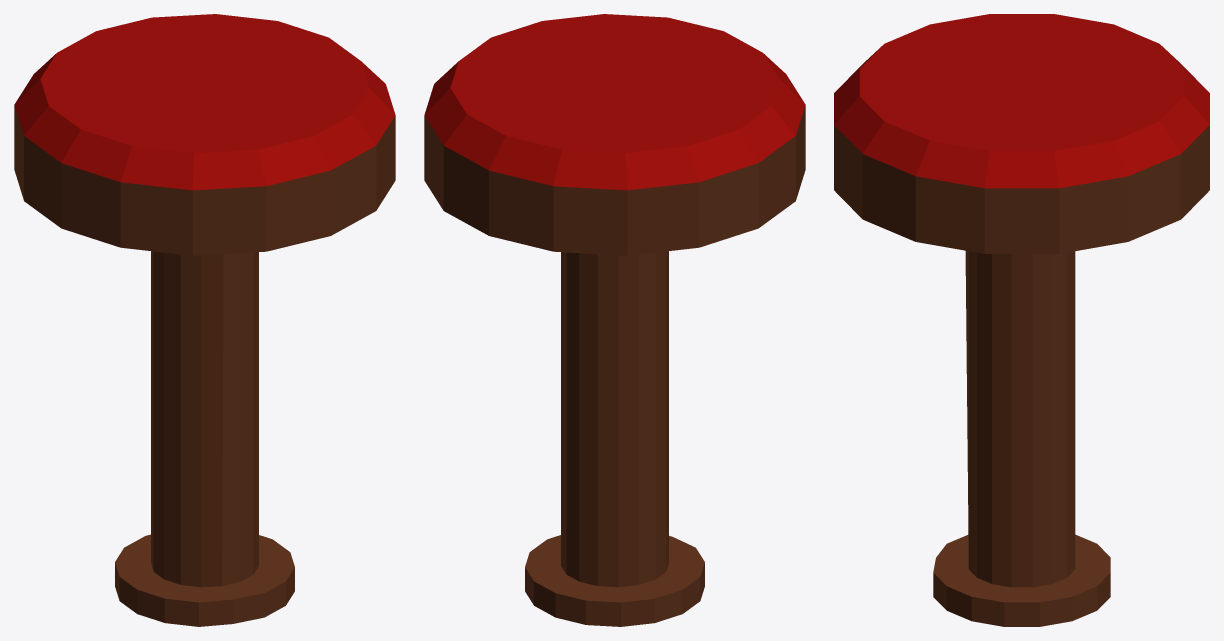
The model's file is Stool.fbx.
The picture shows the model from 3 angles, left to right: view 1: azimuth 30°, elevation 25°; view 2: azimuth 150°, elevation 25°; view 3: azimuth 270°, elevation 25°; orthographic projection.
Parts seen in each view (by area): view 1: Stool; view 2: Stool; view 3: Stool.
Boxes of the visible parts, x1,y1,x2,y2 form: Stool: [14, 14, 395, 626]; Stool: [424, 14, 805, 626]; Stool: [834, 14, 1209, 626].
Bounding box in the file's own units: 46.54 × 69.29 × 46.54.
